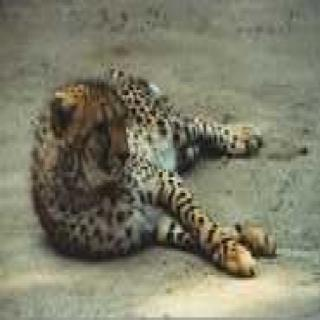Leopard: (48, 56, 270, 282)
